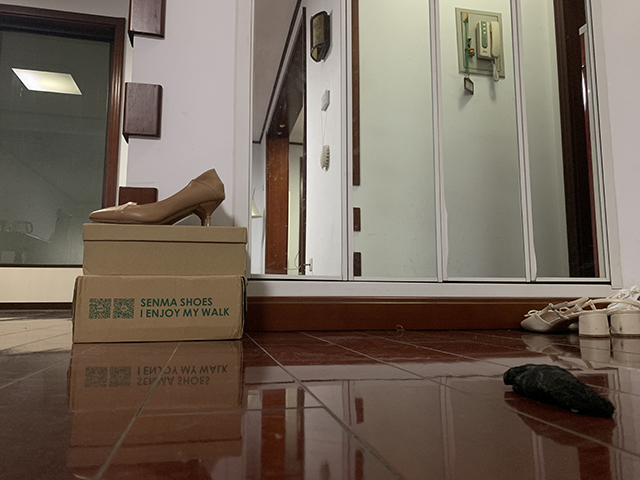feces: (501, 363, 617, 415)
